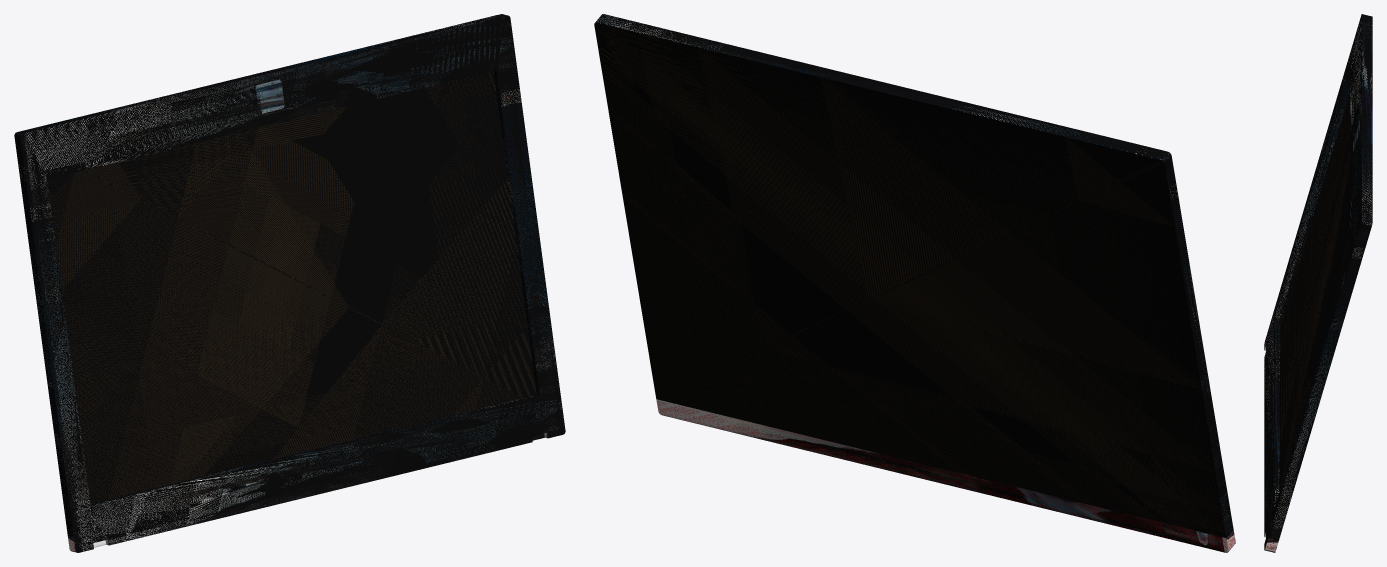
3 renders of one model, left to right at view 1: azimuth 30°, elevation 25°; view 2: azimuth 150°, elevation 25°; view 3: azimuth 270°, elevation 25°, orthographic. The views are drawn at different scales.
Size of the model in its own units: 1.16 by 0.86 by 0.2534.
Materials: 8 (1 with a texture image).
